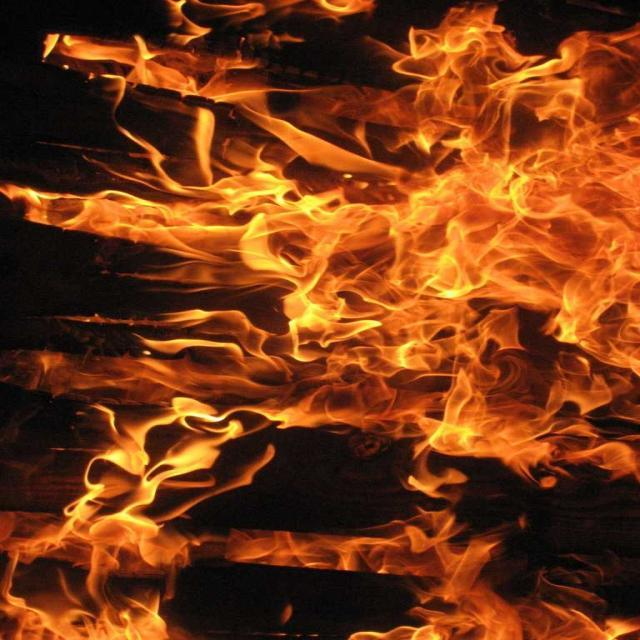Fire: (1, 0, 631, 639)
